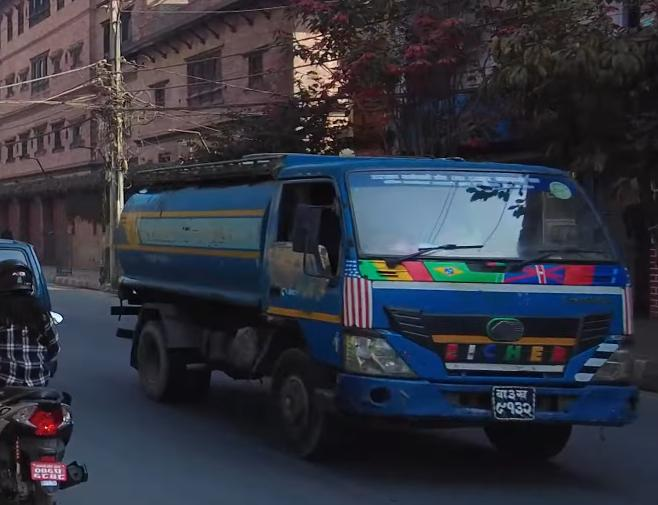mini_truck: (95, 135, 644, 472)
scooter: (0, 265, 88, 505)
